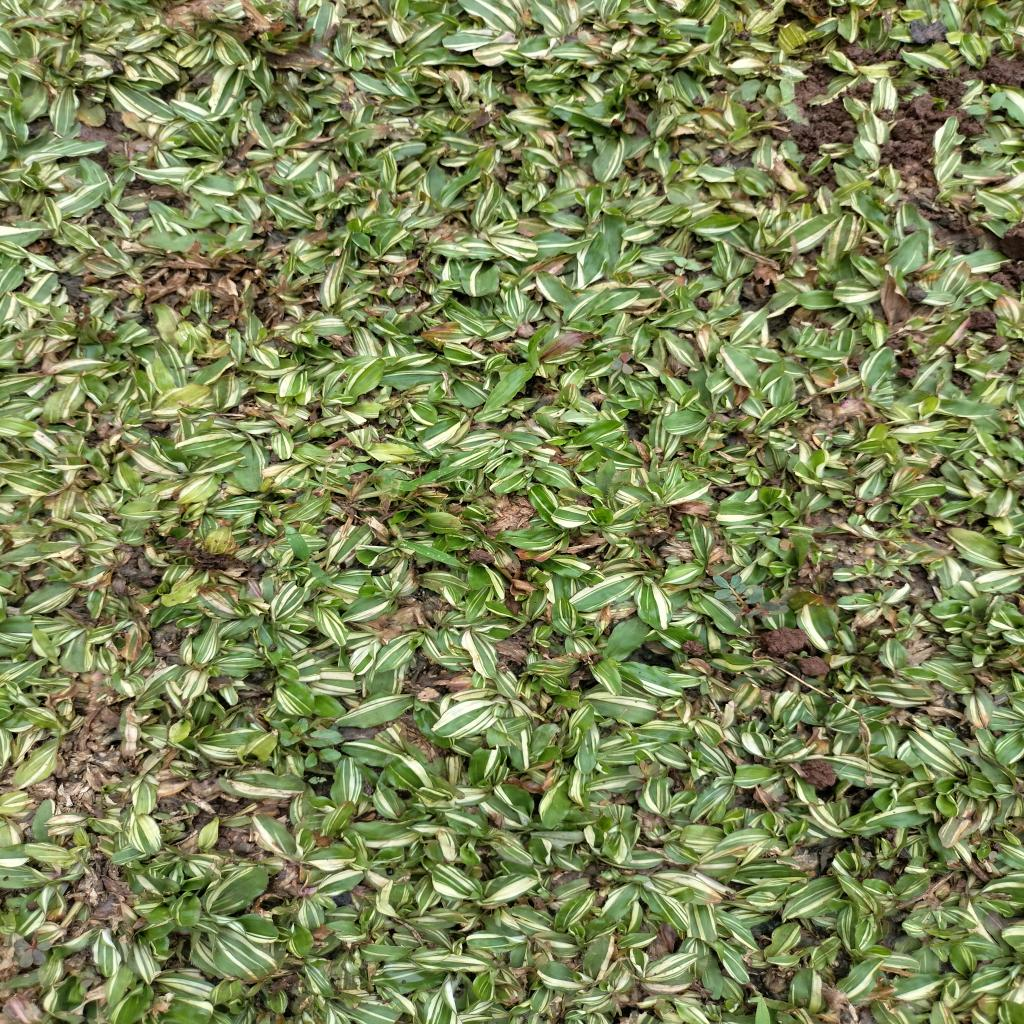buah daun: (713, 574, 793, 630), (609, 350, 637, 376)
rambat atas: (352, 459, 474, 501), (386, 516, 468, 570), (280, 444, 352, 496), (282, 522, 330, 584), (333, 457, 403, 499)
tunggang tengah: (964, 90, 1007, 125)
ungu tunggang: (265, 714, 348, 766)
